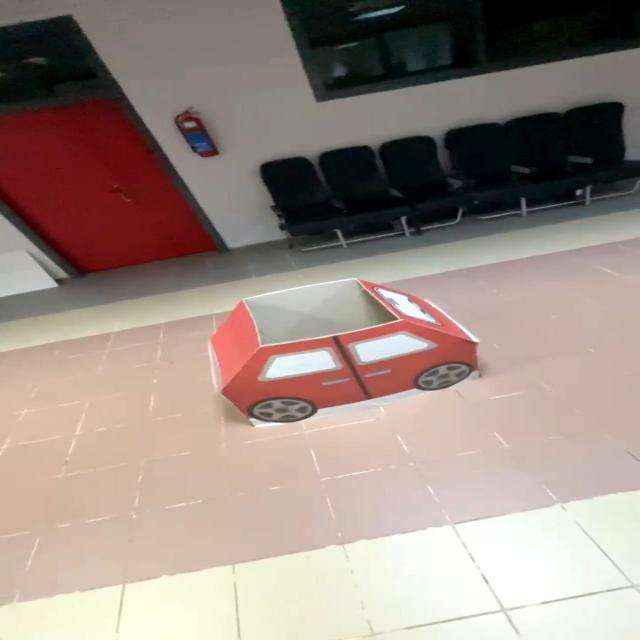red_car: (183, 266, 512, 448)
